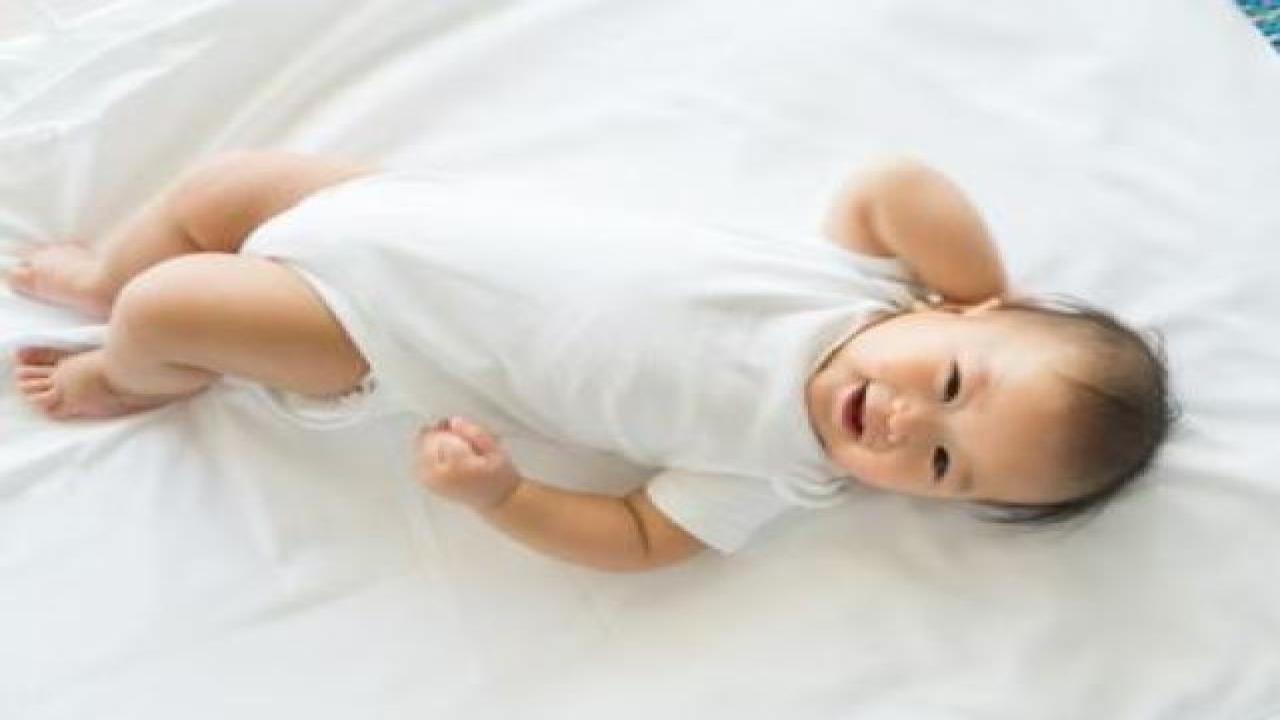hand: (413, 416, 527, 514)
